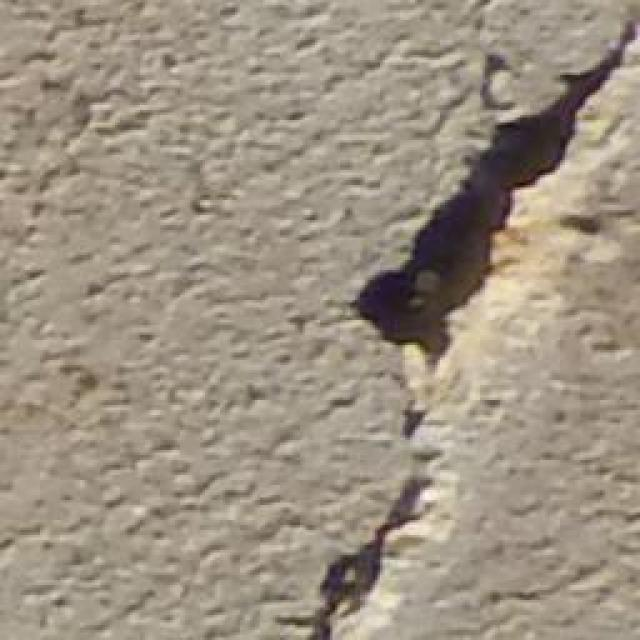concrete-crack: (260, 0, 640, 640)
